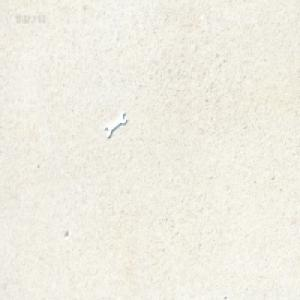Wrench: (103, 109, 126, 137)
